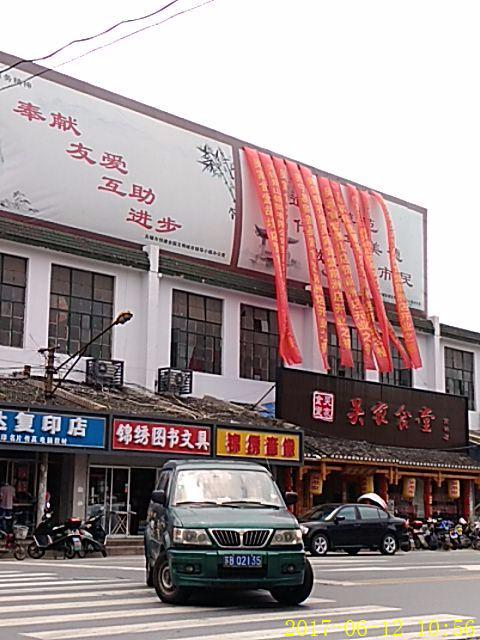window_shielding: (278, 366, 469, 457)
